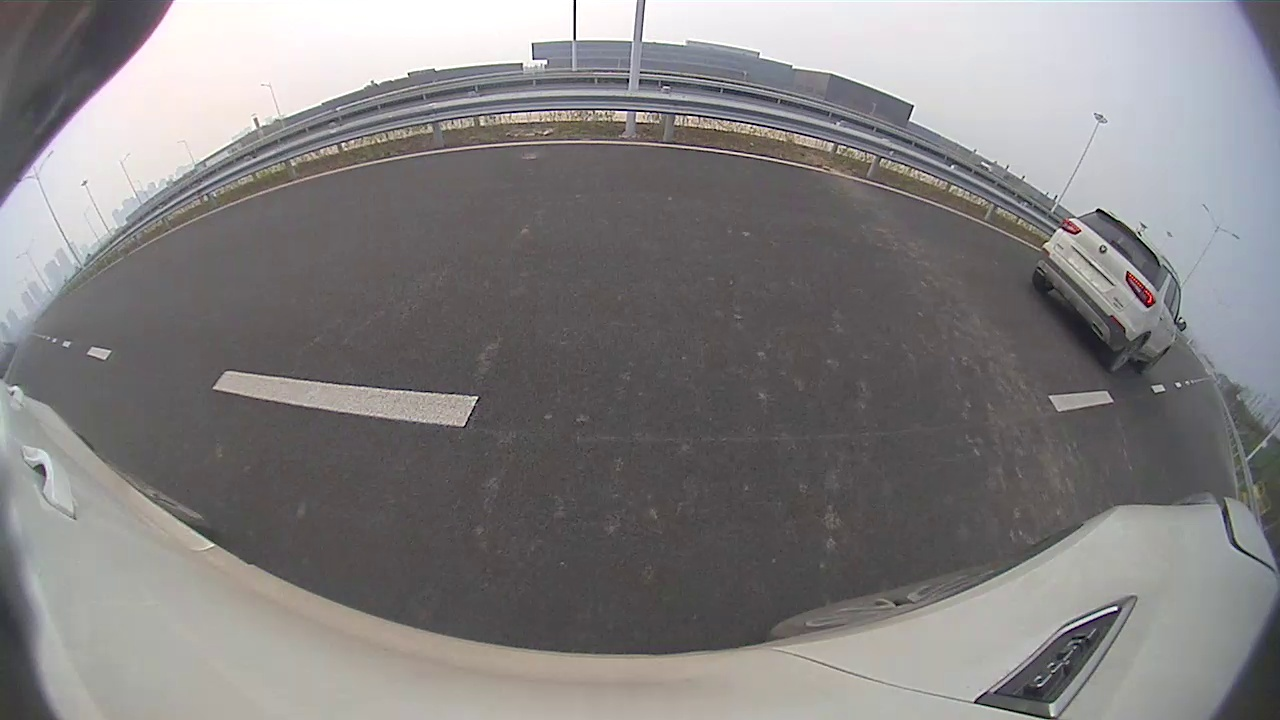car: (656, 144, 734, 195)
rear: (672, 173, 679, 192)
